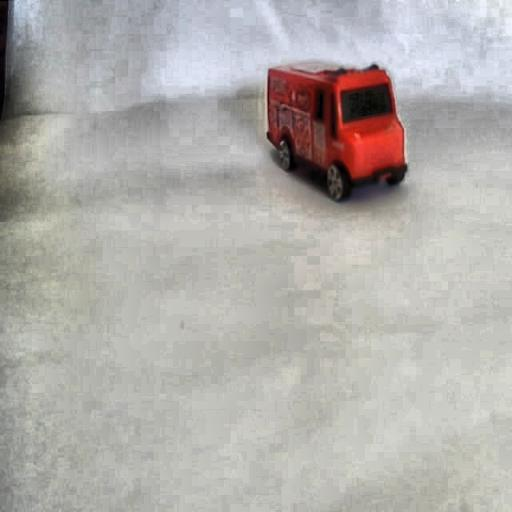fire_truck: (261, 56, 408, 202), (279, 74, 316, 127)
